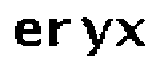e: (10, 15, 42, 49)
r: (44, 17, 74, 49)
x: (115, 16, 149, 51)
y: (77, 13, 115, 59)
